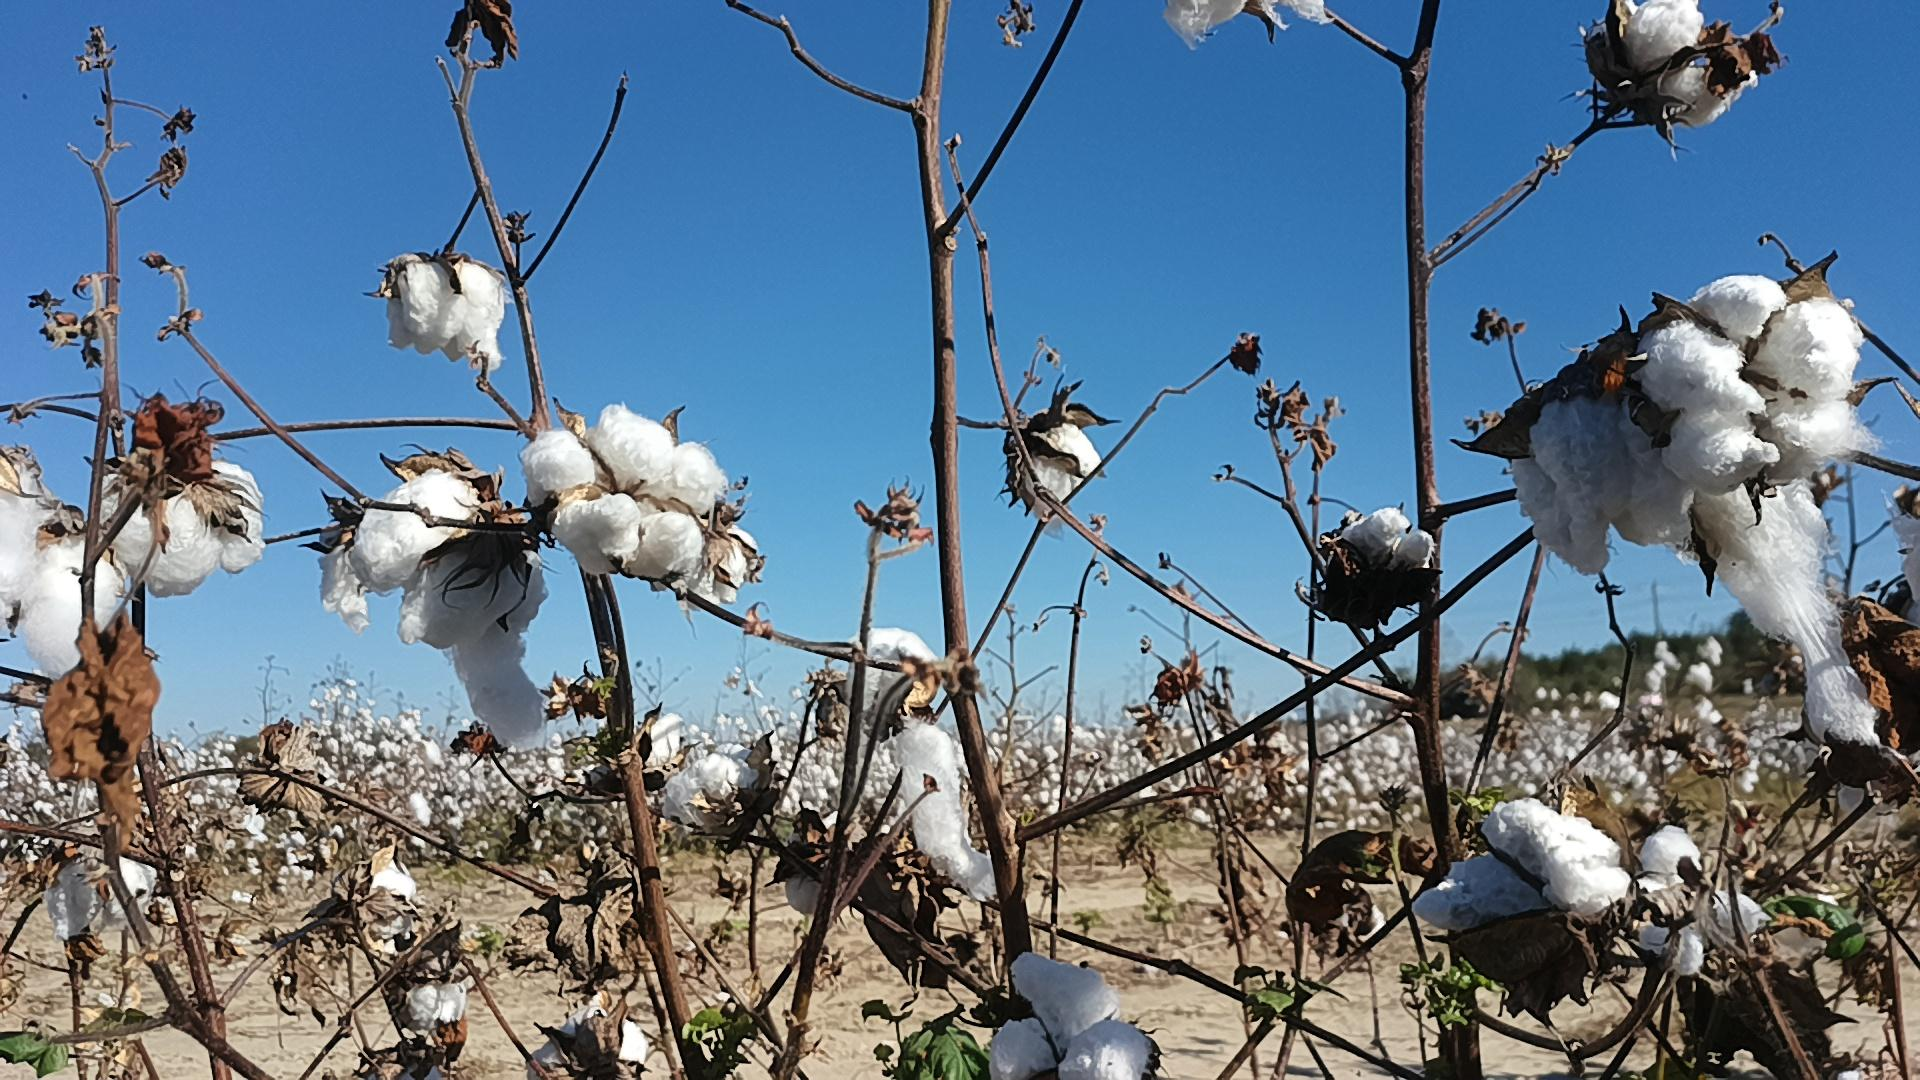cotton_ready: (1684, 475, 1891, 750), (348, 471, 551, 750), (1648, 276, 1866, 497), (843, 625, 996, 899), (1510, 388, 1692, 579), (526, 407, 728, 575), (1416, 795, 1638, 932), (0, 498, 131, 679), (102, 460, 262, 597), (988, 951, 1155, 1080), (1631, 823, 1768, 976), (1614, 0, 1763, 133), (388, 256, 504, 369), (1022, 407, 1110, 543), (530, 988, 647, 1080), (47, 851, 158, 943), (658, 741, 758, 831), (1166, 0, 1329, 47), (1333, 508, 1436, 583), (783, 808, 853, 913), (348, 853, 414, 952), (320, 513, 373, 626), (404, 968, 465, 1039)
